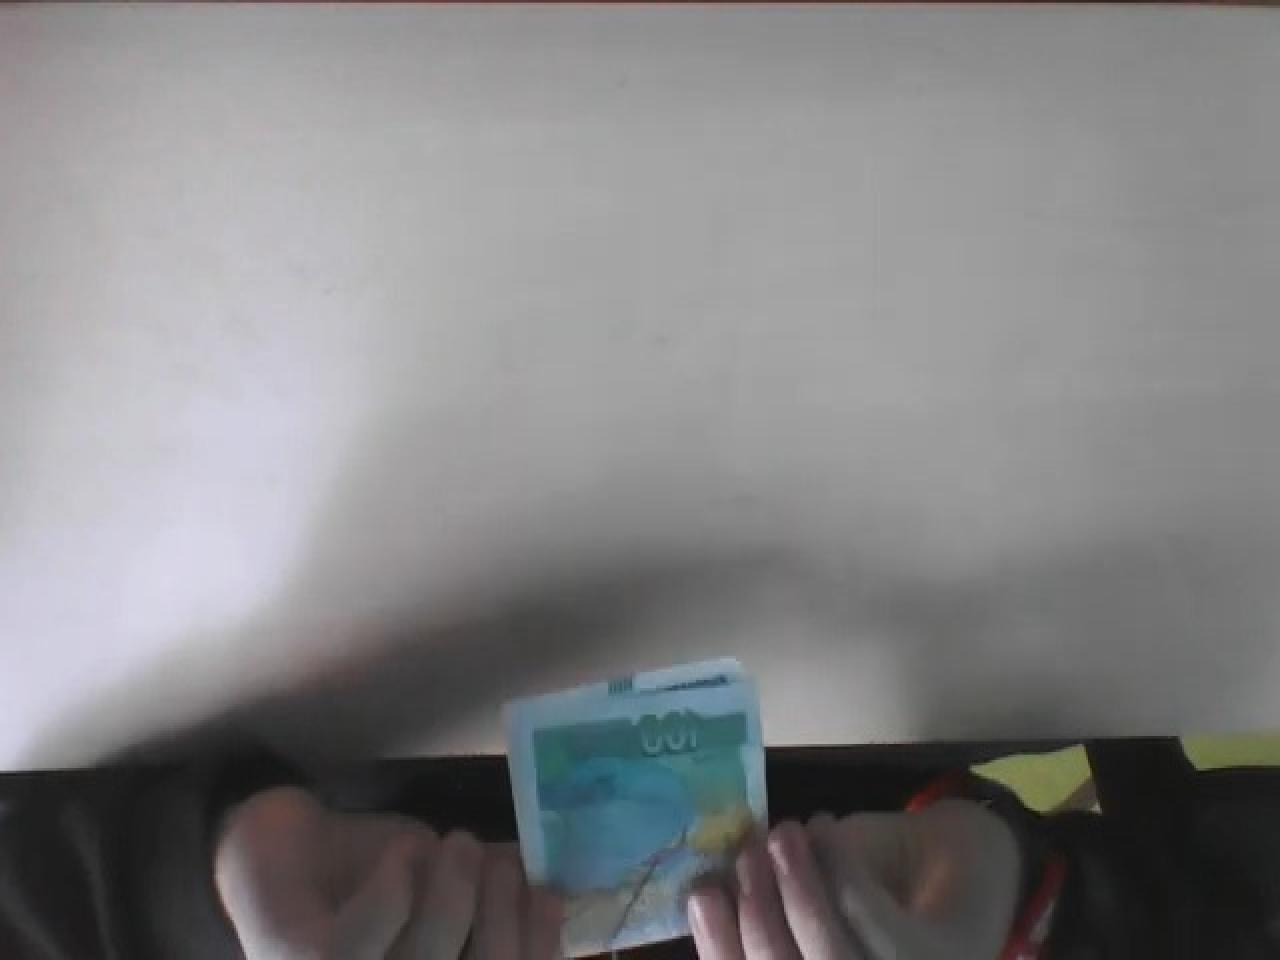100leva: (504, 650, 770, 955)
